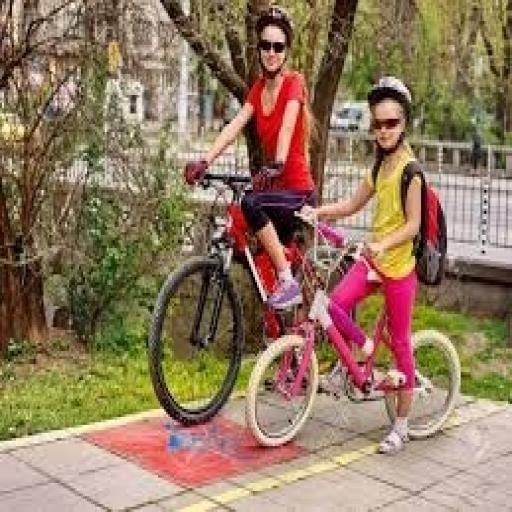cycling: (294, 74, 431, 456), (186, 5, 320, 314)
